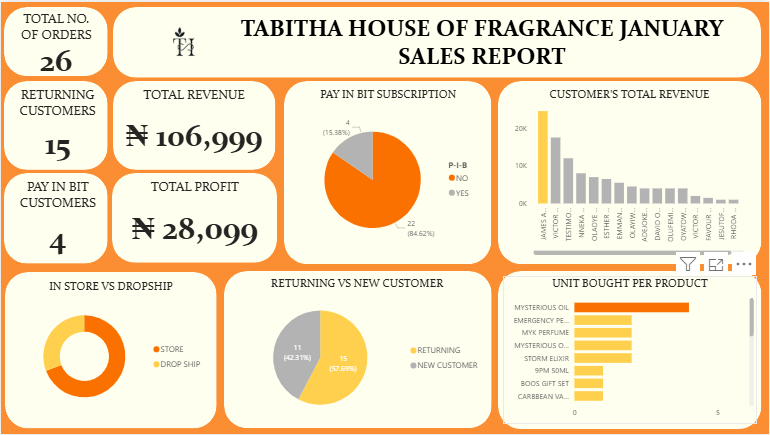

This screenshot's page, from the dashboard's own definition file:
{"tool":"powerbi","page":{"name":"Page 1","canvas":[1280,720],"ordinal":0},"visuals":[{"type":"shape","box":[187.2,8.6,1080,118.1],"z":0},{"type":"shape","box":[4.3,8.6,172.8,115.2],"z":1000},{"type":"shape","box":[5.8,131,172.8,148.3],"z":2000},{"type":"image","box":[239,8.6,132.5,115.2],"z":3000},{"type":"card","title":"TOTAL NO. OF ORDERS","fields":{"Values":["CountNonNull(JANUARY.S/N)"]},"box":[20.2,14.4,144,105.1],"z":4000},{"type":"shape","box":[472.3,131,345.6,305.3],"z":5000},{"type":"card","title":"RETURNING CUSTOMERS","fields":{"Values":["JANUARY.RETURNING CUSTOMERS"]},"box":[14.4,141.1,158.4,128.2],"z":6000},{"type":"pieChart","title":"PAY IN BIT SUBSCRIPTION","fields":{"Category":["JANUARY.P-I-B"],"Y":["CountNonNull(JANUARY.S/N)"]},"box":[488.2,141.1,313.9,286.6],"z":7000},{"type":"shape","box":[7.2,450.7,352.8,260.6],"z":8000},{"type":"shape","box":[828,131,439.2,305.3],"z":9000},{"type":"shape","box":[828,447.8,439.2,263.5],"z":10000},{"type":"shape","box":[371.5,447.8,446.4,262.1],"z":11000},{"type":"pieChart","title":"RETURNING VS NEW CUSTOMER","fields":{"Y":["CountNonNull(JANUARY.S/N)"],"Category":["JANUARY.RETURNING"]},"box":[378.7,456.5,430.6,249.1],"z":12000},{"type":"donutChart","title":"IN STORE VS DROPSHIP","fields":{"Y":["CountNonNull(JANUARY.S/N)"],"Category":["JANUARY.TYPE"]},"box":[20.2,462.2,326.9,234.7],"z":13000},{"type":"clusteredColumnChart","title":"CUSTOMER''S TOTAL REVENUE","fields":{"Category":["JANUARY.NAME"],"Y":["Sum(JANUARY.SALES PRICE)"]},"box":[852.5,141.1,391.7,285.1],"z":14000},{"type":"clusteredBarChart","title":"UNIT BOUGHT PER PRODUCT","fields":{"Category":["JANUARY.PRODUCT"],"Y":["Sum(JANUARY.UNIT)"]},"box":[836.6,456.5,423.4,246.2],"z":15000},{"type":"shape","title":"TABITHA HOUSE OF FRAGRANCE    JANUARY SALES REPORT","box":[388.8,14.4,826.6,103.7],"z":16000},{"type":"shape","box":[185.8,285.1,275,149.8],"z":17000},{"type":"card","title":"TOTAL PROFIT","fields":{"Values":["Sum(JANUARY.PROFIT)"]},"box":[210.2,295.2,226.1,129.6],"z":18000},{"type":"shape","box":[5.8,285.1,172.8,151.2],"z":19000},{"type":"card","title":"PAY IN BIT CUSTOMERS","fields":{"Values":["JANUARY.PIB"]},"box":[23,295.2,142.6,132.5],"z":20000},{"type":"shape","box":[187.2,131,270.7,148.3],"z":21000},{"type":"card","title":"TOTAL REVENUE","fields":{"Values":["JANUARY.TOTAL REVENUE"]},"box":[200.2,141.1,243.4,128.2],"z":22000}]}

Visuals, with their boxes in screenshot pixels (x1, y1, x2, y2), scaled from the page's 1280x720 canvas onto the 770x435 screenshot:
shape: 113 5 762 77
shape: 3 5 107 75
shape: 3 79 107 169
image: 144 5 223 75
"TOTAL NO. OF ORDERS" card: 12 9 99 72
shape: 284 79 492 264
"RETURNING CUSTOMERS" card: 9 85 104 163
"PAY IN BIT SUBSCRIPTION" pieChart: 294 85 483 258
shape: 4 272 217 430
shape: 498 79 762 264
shape: 498 271 762 430
shape: 223 271 492 429
"RETURNING VS NEW CUSTOMER" pieChart: 228 276 487 426
"IN STORE VS DROPSHIP" donutChart: 12 279 209 421
"CUSTOMER''S TOTAL REVENUE" clusteredColumnChart: 513 85 748 257
"UNIT BOUGHT PER PRODUCT" clusteredBarChart: 503 276 758 425
"TABITHA HOUSE OF FRAGRANCE    JANUARY SALES REPORT" shape: 234 9 731 71
shape: 112 172 277 263
"TOTAL PROFIT" card: 126 178 262 257
shape: 3 172 107 264
"PAY IN BIT CUSTOMERS" card: 14 178 100 258
shape: 113 79 275 169
"TOTAL REVENUE" card: 120 85 267 163
